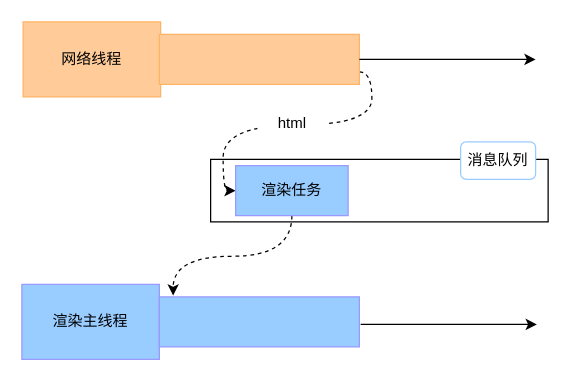
Image size: 570x381. Some labels were removed from this diagram. Here are the shapes that lost their labels. From the top down, the box of each, then its label:
(158, 33, 359, 84): 通信
(158, 296, 359, 347): 渲染
